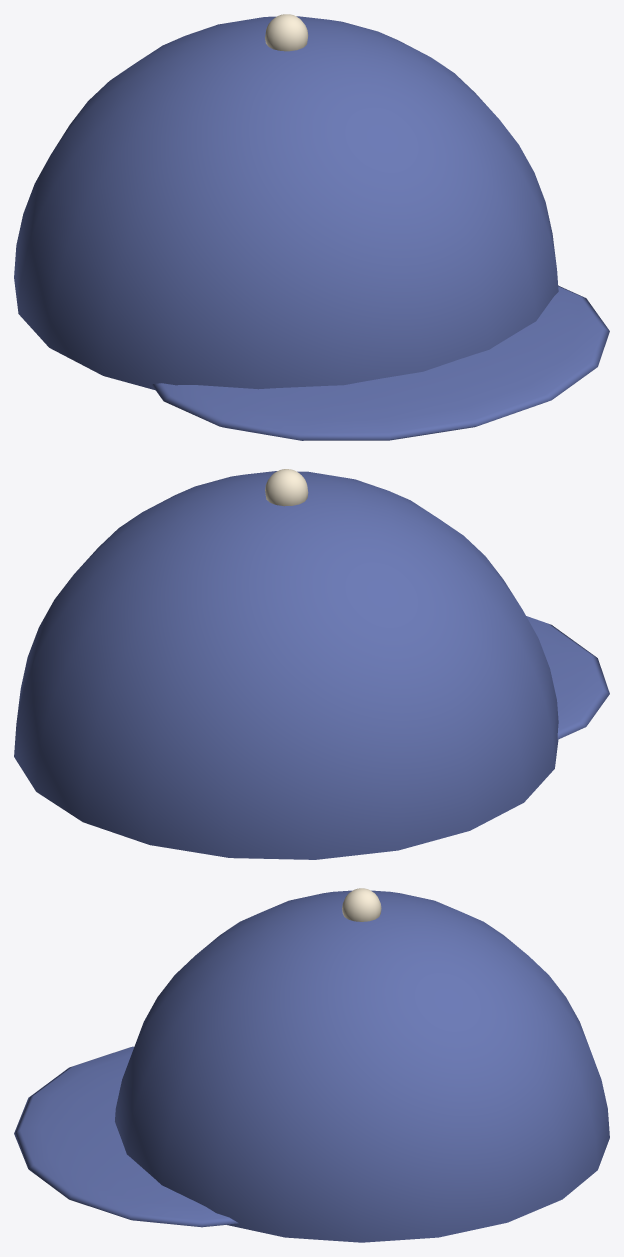
The model's file is objeto-cap.glb.
The picture shows the model from 3 angles, top to bottom: view 1: azimuth 30°, elevation 25°; view 2: azimuth 150°, elevation 25°; view 3: azimuth 270°, elevation 25°; orthographic projection. The views are drawn at different scales.
Parts seen in each view (by area): view 1: equipment:cap; view 2: equipment:cap; view 3: equipment:cap.
Boxes of the visible parts, <box> form: equipment:cap: <box>14,14,609,440</box>; equipment:cap: <box>14,469,609,859</box>; equipment:cap: <box>14,888,609,1242</box>.
Bounding box in the file's own units: 0.528 × 0.302 × 0.634.
